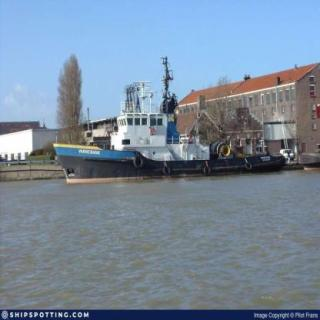Tug Boat: (56, 60, 285, 176)
